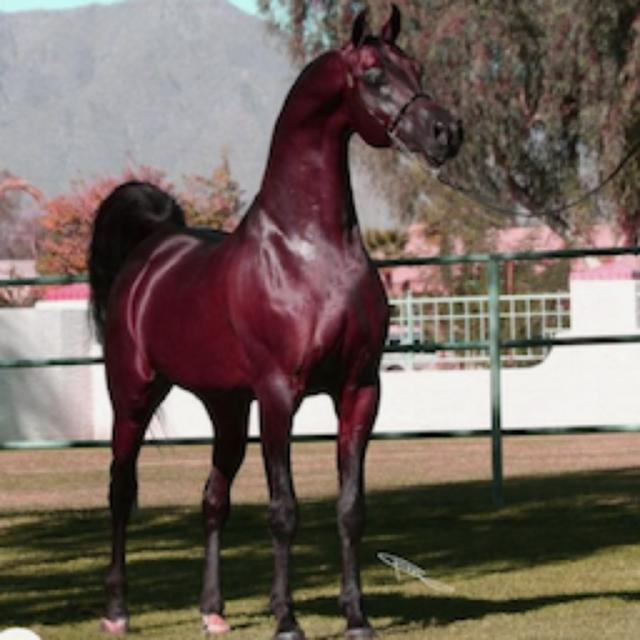Horse: (78, 0, 472, 638)
